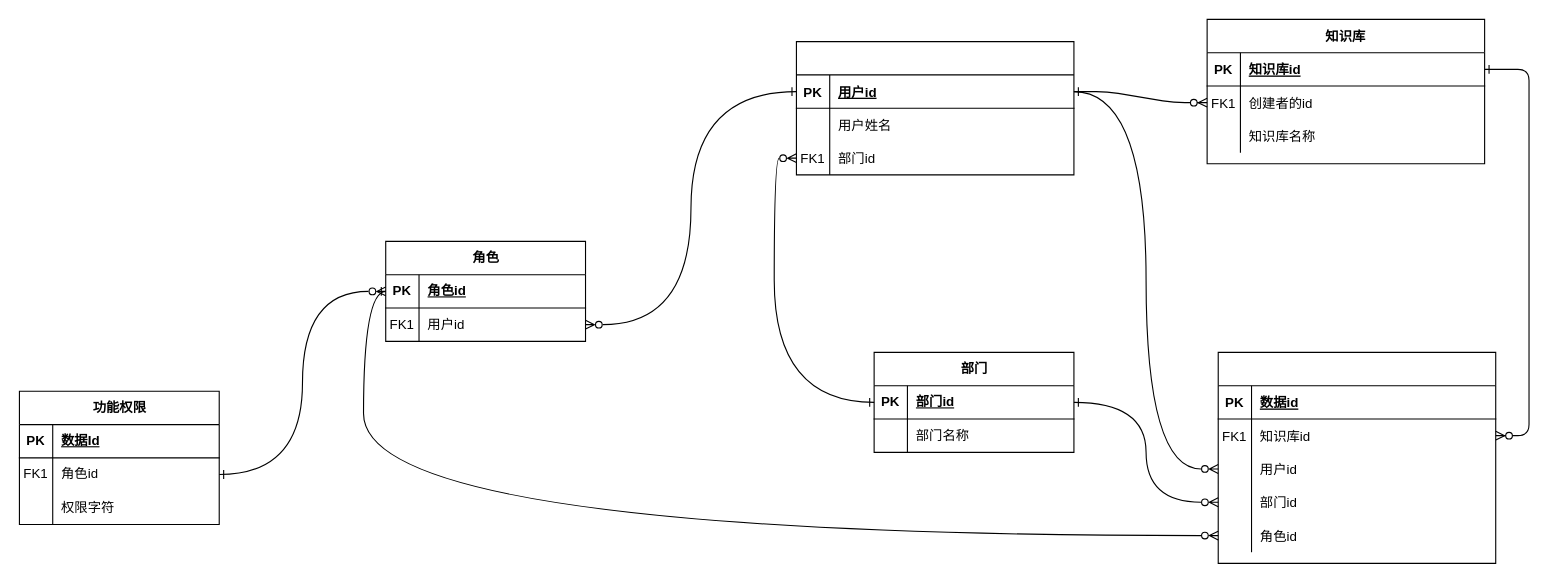
This 1558x583 diagram has some shape labels left out. Each missing label, with the box of its shape:
用户: (795, 41, 1074, 175)
知识库权限: (1217, 351, 1496, 563)
